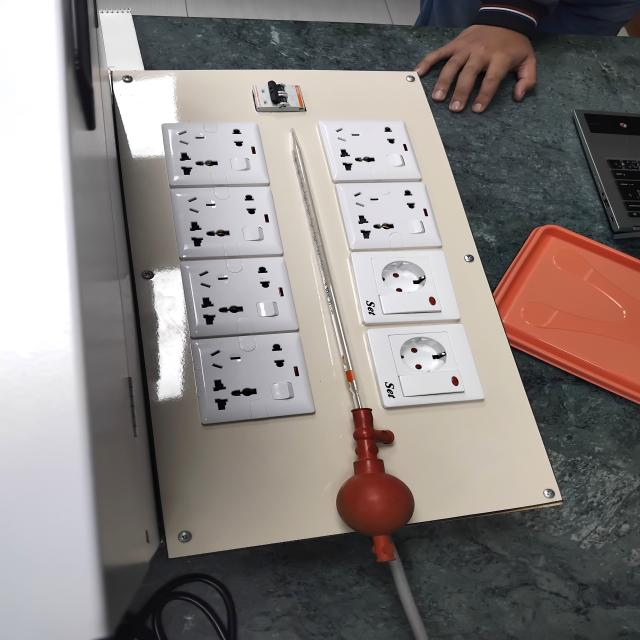Volumetric_Pipet: (249, 116, 438, 587)
